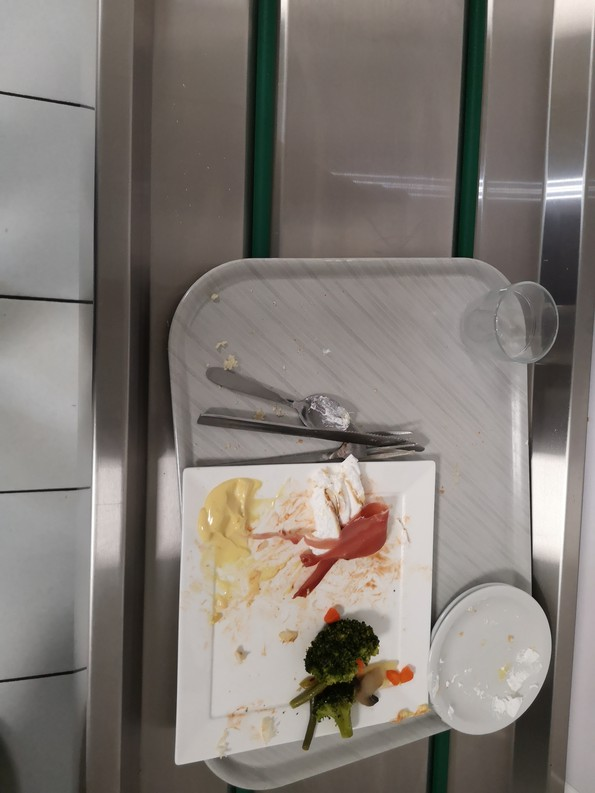cup: (457, 271, 582, 381)
cutlery: (196, 354, 447, 464)
orga: (310, 612, 386, 756), (197, 489, 261, 564)
trash: (308, 461, 367, 536)
